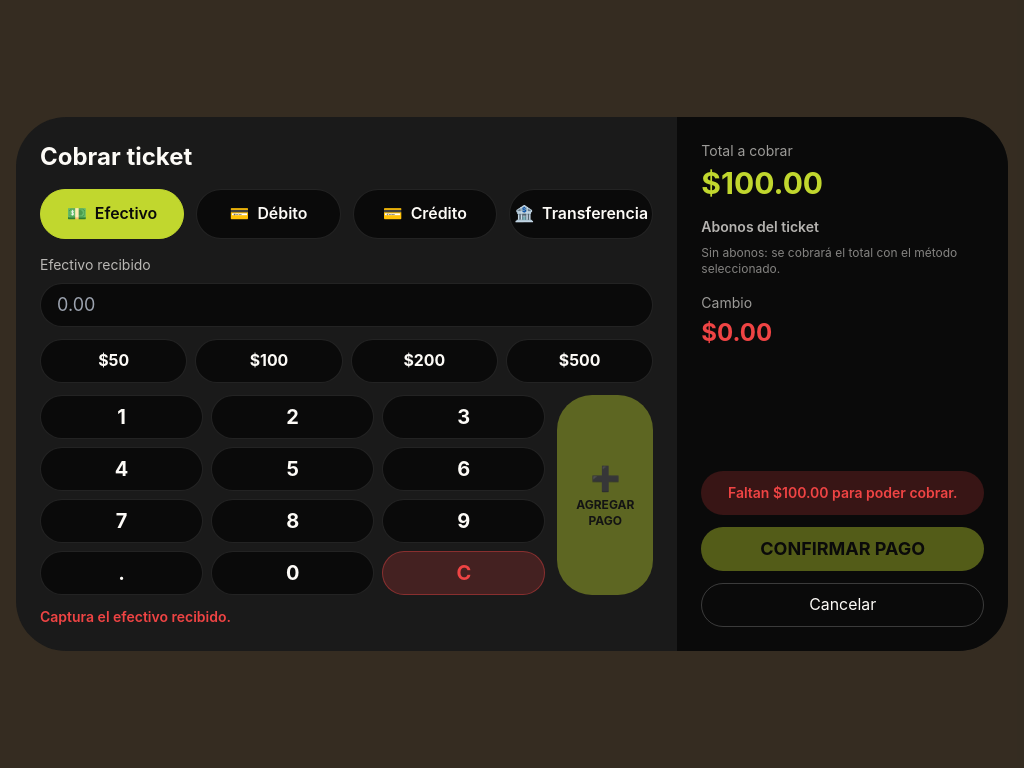
Test: F9.0.2 — CheckoutScreen integra el teclado › criterio 4b: "C" limpia el recibido y vuelve a bloquear el cobro
Click the button "5".
click(293, 469)  # box [211,447,374,491]
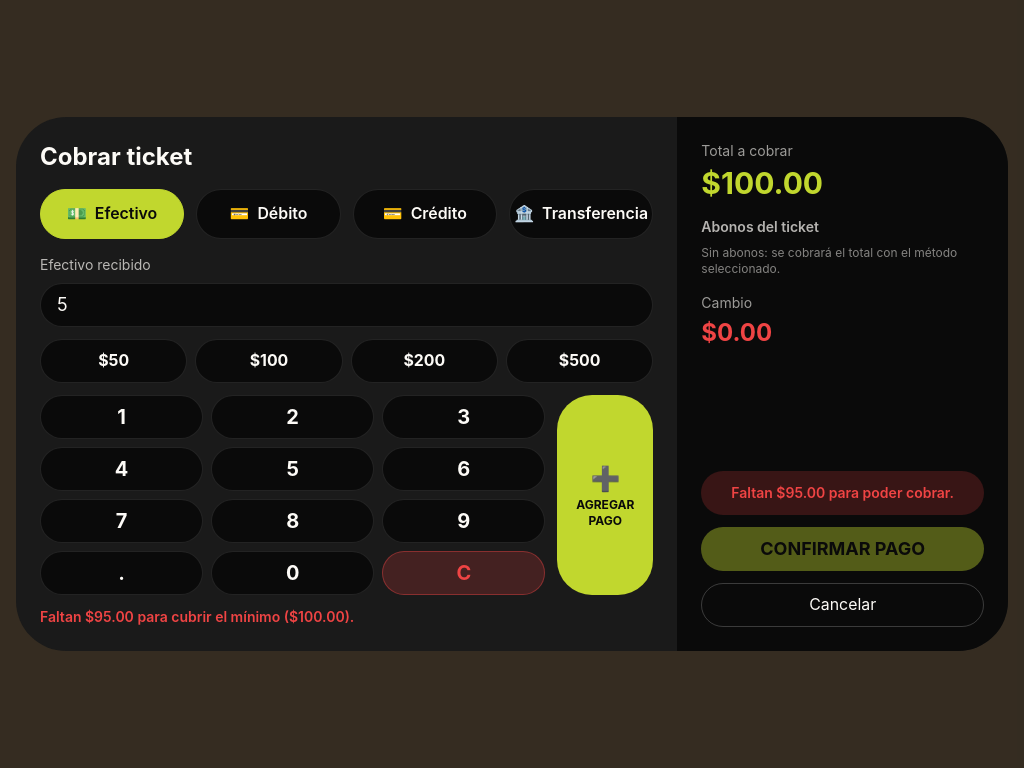
Click the button "0".
click(293, 573)  # box [211,551,374,595]
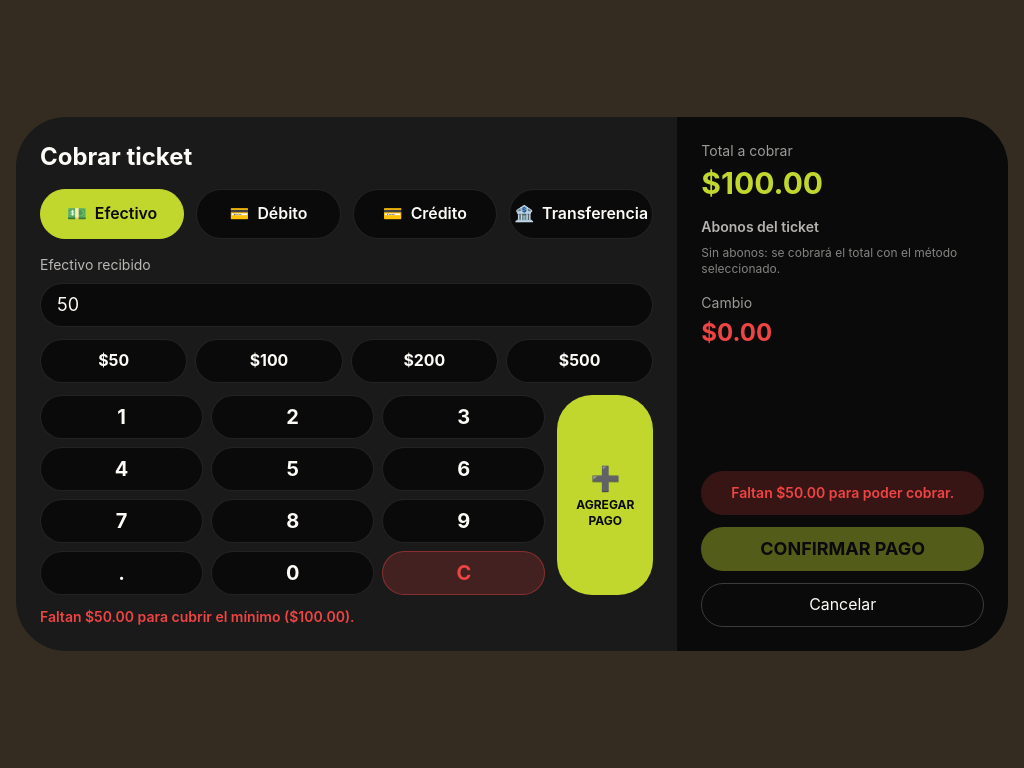
Click the button "0".
click(293, 573)  # box [211,551,374,595]
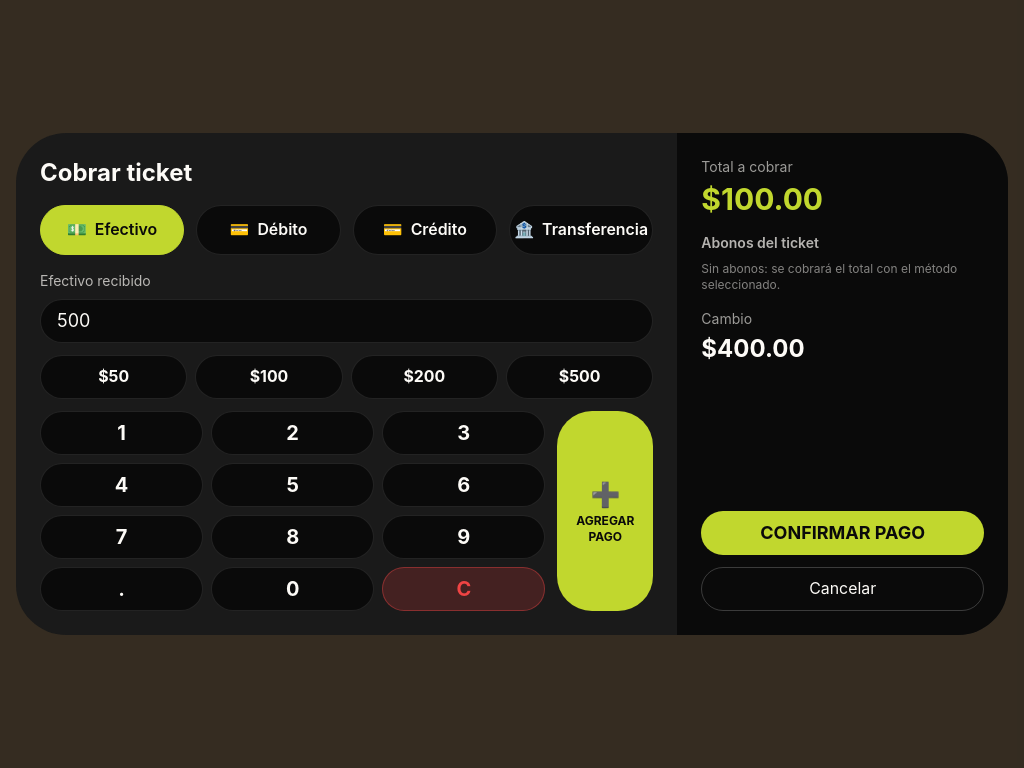
Result: the button "CONFIRMAR PAGO" is enabled at [701,511,984,555]
Click the button named "Borrar".
click(464, 589)  # box [382,567,545,611]
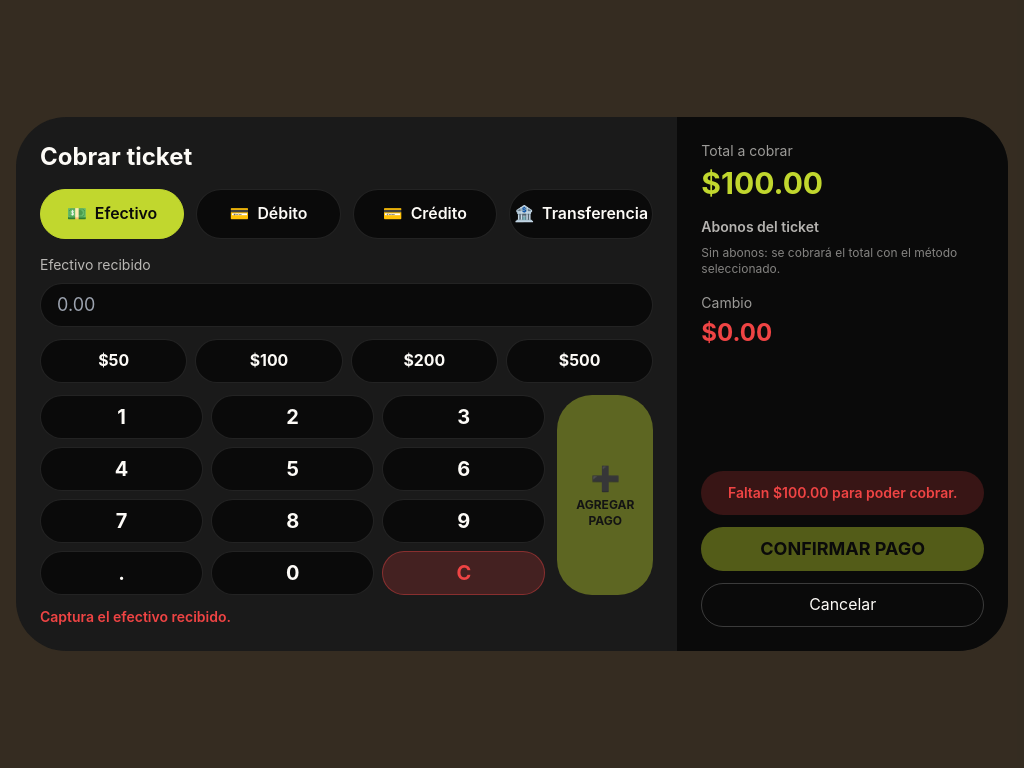
Result: the button "CONFIRMAR PAGO" is disabled at [701,527,984,571]
